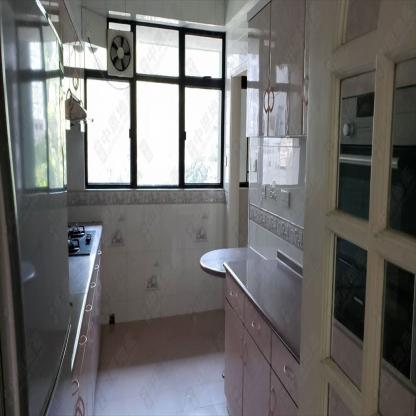Cupboard: (222, 264, 300, 415), (245, 0, 307, 137), (72, 240, 101, 415)
Exhaust Fan: (106, 29, 134, 78)
Exhaust Hood: (70, 97, 93, 125)
Fridge: (0, 0, 75, 415)
Stove: (68, 222, 95, 255)
